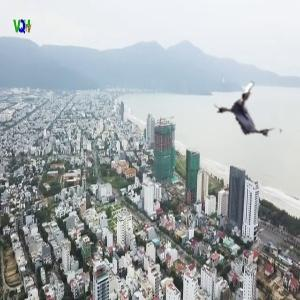drone: (211, 76, 289, 154)
